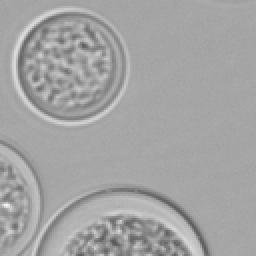picoshell: (10, 8, 128, 124), (30, 190, 206, 254), (0, 144, 40, 254)
